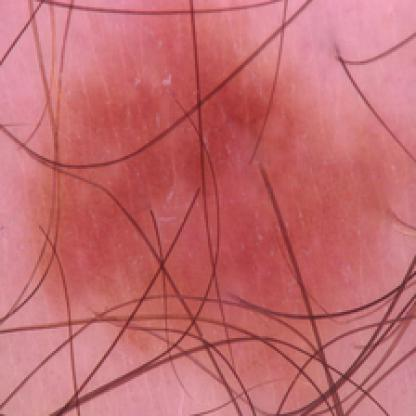benign: (43, 54, 392, 366)
